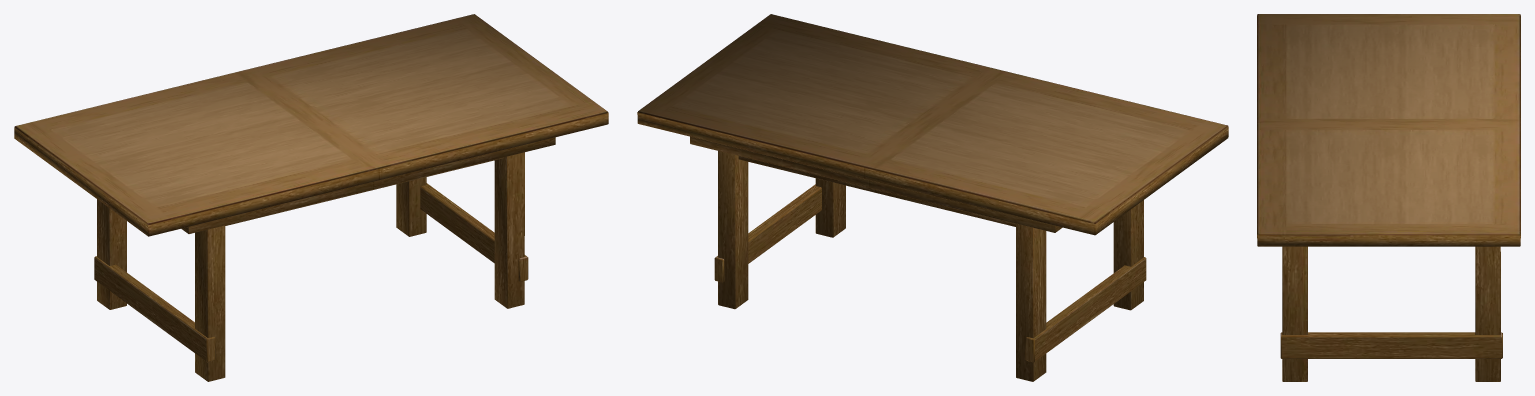
Rendered from abo-B075YMW6VR.glb.
3 views of the same model, side by side, from view 1: azimuth 30°, elevation 25°; view 2: azimuth 150°, elevation 25°; view 3: azimuth 270°, elevation 25° (orthographic).
Visible parts, largest first — view 1: RootNode; view 2: RootNode; view 3: RootNode.
Part boxes in pixels (x1,y1,x2,y2): RootNode: [14, 14, 608, 381]; RootNode: [637, 14, 1228, 381]; RootNode: [1257, 14, 1520, 381].
Bounding box in the file's own units: 1.98 × 0.7618 × 1.
1 material, 1 textured.
